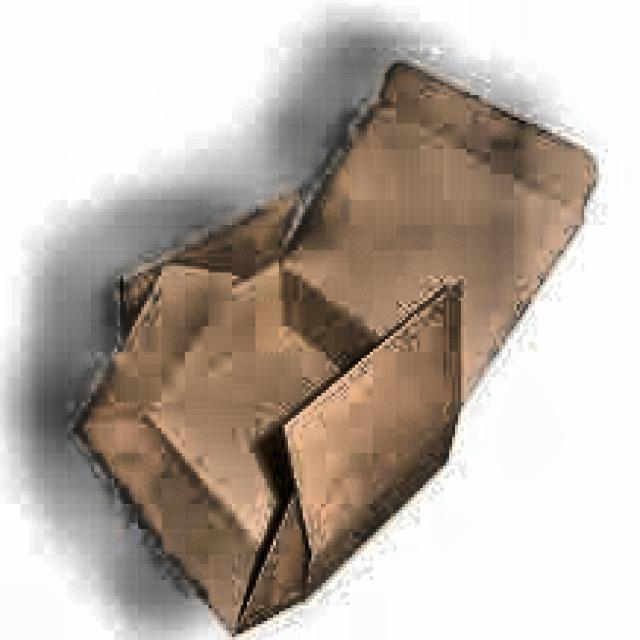cardboard: (70, 57, 599, 637)
